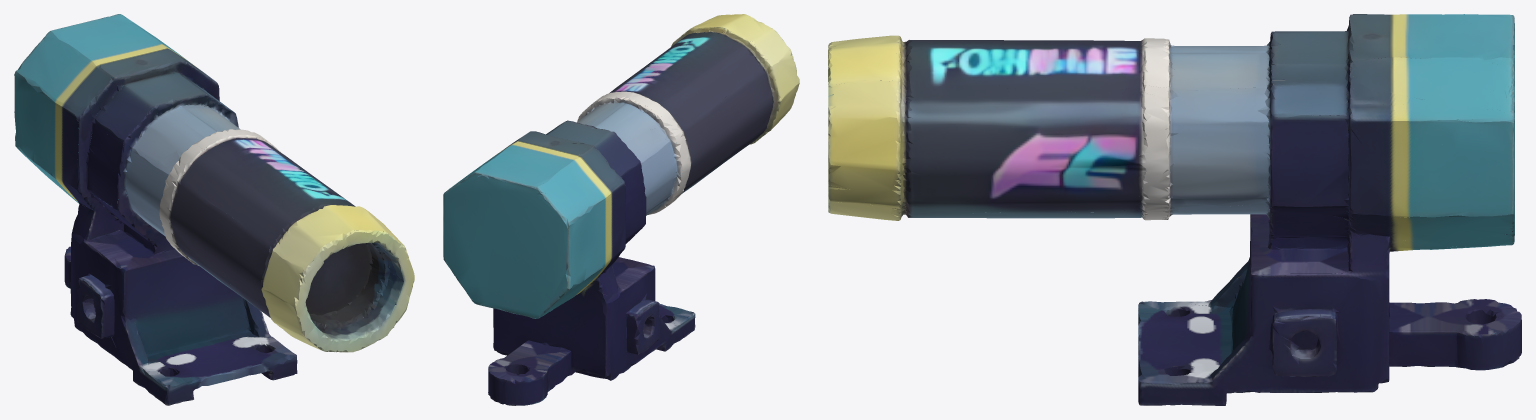
Rendered from formulae_rocket.glb.
The picture shows the model from 3 angles, left to right: view 1: azimuth 30°, elevation 25°; view 2: azimuth 150°, elevation 25°; view 3: azimuth 270°, elevation 25°; orthographic projection. The views are drawn at different scales.
Parts seen in each view (by area): view 1: Rocket_Formula_E; view 2: Rocket_Formula_E; view 3: Rocket_Formula_E.
Boxes of the visible parts, bbox=[...] form: Rocket_Formula_E: bbox=[14, 14, 414, 405]; Rocket_Formula_E: bbox=[443, 14, 799, 405]; Rocket_Formula_E: bbox=[828, 14, 1521, 405].
Size of the model in its own units: 0.1978 by 0.3149 by 0.6001.
1 material, 1 textured.
